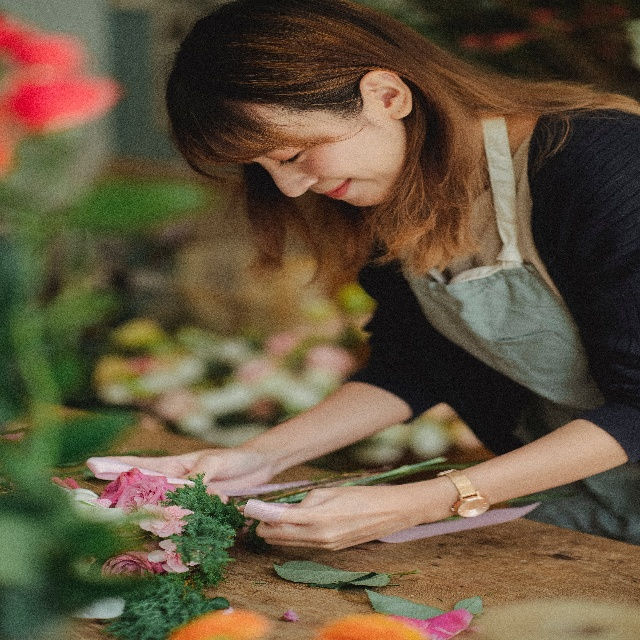Sin_guantes: (249, 487, 418, 542), (85, 438, 277, 481)
